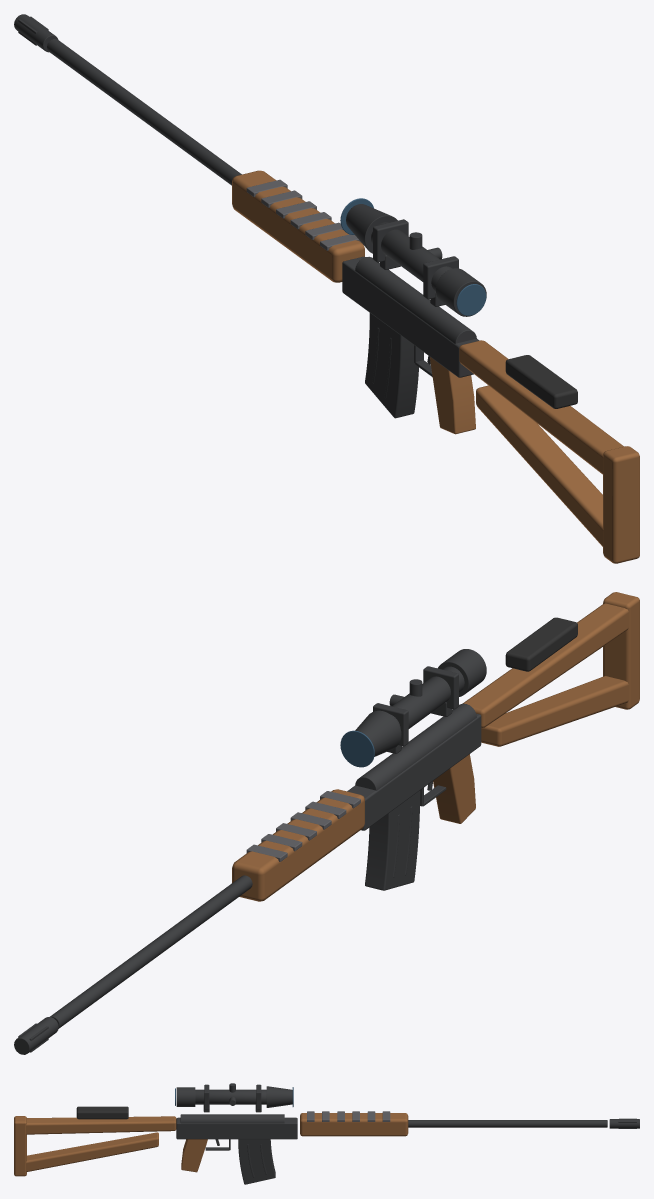
Rendered from svd.glb.
The picture shows the model from 3 angles, top to bottom: view 1: azimuth 30°, elevation 25°; view 2: azimuth 150°, elevation 25°; view 3: azimuth 270°, elevation 25°; orthographic projection. The views are drawn at different scales.
Visible parts, largest first — view 1: StockBottom, Handguard, StockTop, StockRear, Receiver, Mag_body, Barrel, DustCover, Grip, Cheekrest, ScopeTube, ScopeBell (+2 smaller); view 2: Handguard, StockTop, StockBottom, Receiver, Mag_body, Barrel, DustCover, StockRear, Cheekrest, Grip, ScopeTube, ScopeBell (+4 smaller); view 3: StockTop, Handguard, Receiver, StockBottom, Barrel, Mag_body, DustCover, ScopeTube, StockRear, Cheekrest, Grip, ScopeBell (+2 smaller).
Part boxes in pixels (left/top/right/bottom): StockBottom: left=476, top=385, right=603, bottom=546; Handguard: left=232, top=170, right=364, bottom=282; StockTop: left=459, top=340, right=623, bottom=474; StockRear: left=603, top=446, right=639, bottom=563; Receiver: left=342, top=256, right=479, bottom=377; Mag_body: left=365, top=313, right=418, bottom=418; Barrel: left=47, top=39, right=241, bottom=185; DustCover: left=355, top=256, right=476, bottom=343; Grip: left=430, top=357, right=475, bottom=434; Cheekrest: left=505, top=355, right=577, bottom=408; ScopeTube: left=371, top=222, right=452, bottom=291; ScopeBell: left=346, top=204, right=397, bottom=253; Handguard: left=232, top=789, right=364, bottom=901; StockTop: left=463, top=603, right=629, bottom=727; StockBottom: left=481, top=676, right=629, bottom=746; Receiver: left=347, top=713, right=481, bottom=830; Mag_body: left=365, top=790, right=420, bottom=890; Barrel: left=50, top=875, right=252, bottom=1028; DustCover: left=355, top=703, right=476, bottom=790; StockRear: left=603, top=592, right=639, bottom=709; Cheekrest: left=505, top=617, right=577, bottom=671; Grip: left=433, top=754, right=475, bottom=823; ScopeTube: left=391, top=666, right=464, bottom=728; ScopeBell: left=355, top=710, right=401, bottom=756; StockTop: left=26, top=1116, right=176, bottom=1134; Handguard: left=300, top=1113, right=408, bottom=1136; Receiver: left=176, top=1117, right=297, bottom=1139; StockBottom: left=26, top=1132, right=158, bottom=1171; Barrel: left=408, top=1120, right=607, bottom=1127; Mag_body: left=238, top=1139, right=275, bottom=1184; DustCover: left=180, top=1114, right=284, bottom=1123; ScopeTube: left=195, top=1089, right=266, bottom=1104; StockRear: left=14, top=1116, right=26, bottom=1176; Cheekrest: left=76, top=1106, right=128, bottom=1119; Grip: left=181, top=1139, right=207, bottom=1172; ScopeBell: left=266, top=1086, right=292, bottom=1107.
Size of the model in its own units: 0.0577 by 0.2498 by 1.44.
